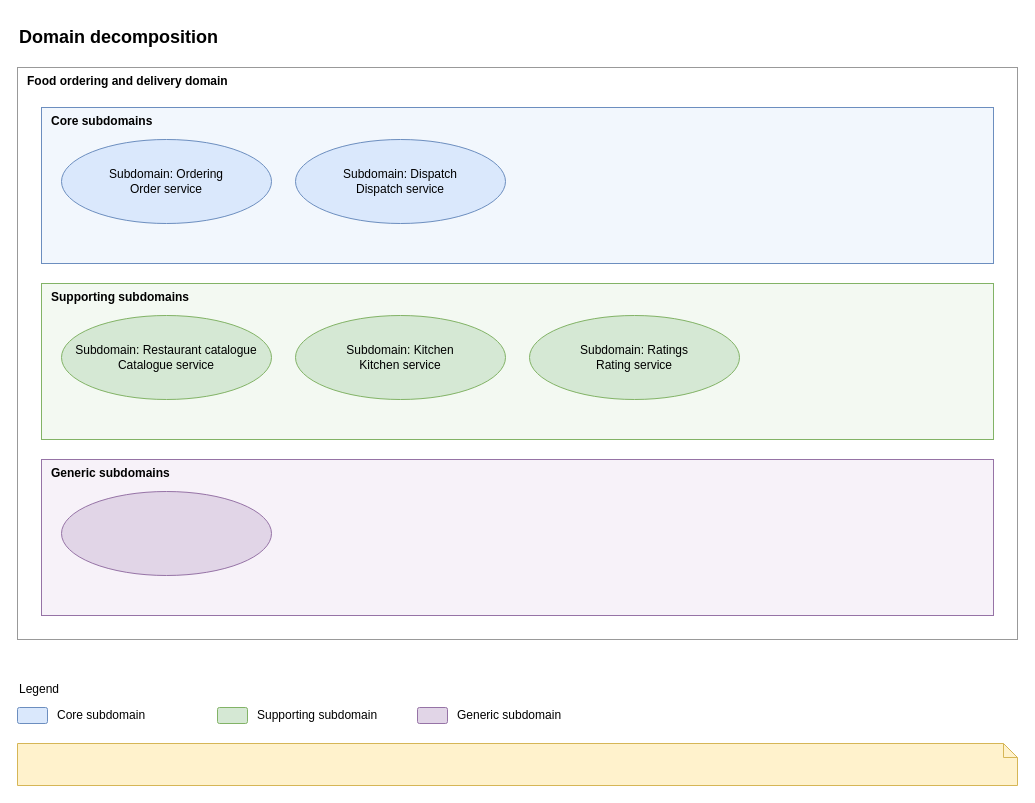
Some shapes in this 1035 by 803 pixel diagram are drawn without their labels. The centre of each missing label's shape, as x and y in pixels:
"Each subdomain is owned by one service, named under the subdomain." belongs at point (517, 764).
"Subdomain: Payments Payment service" belongs at point (166, 533).
